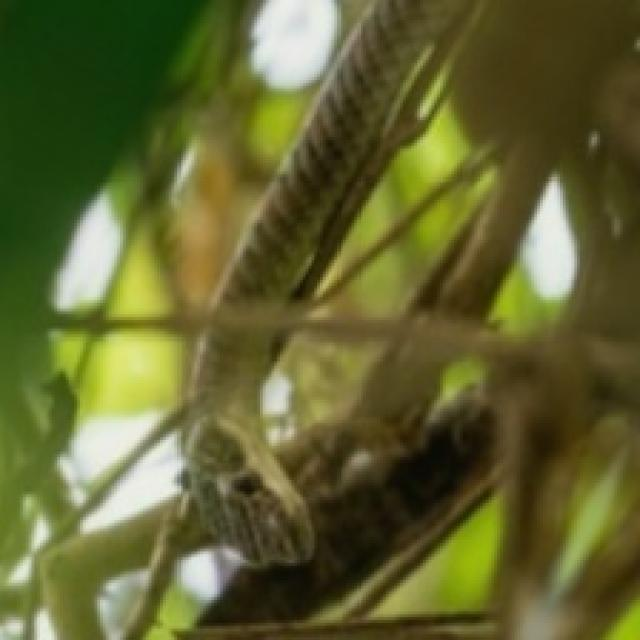paradise tree snake: (186, 411, 311, 563)
